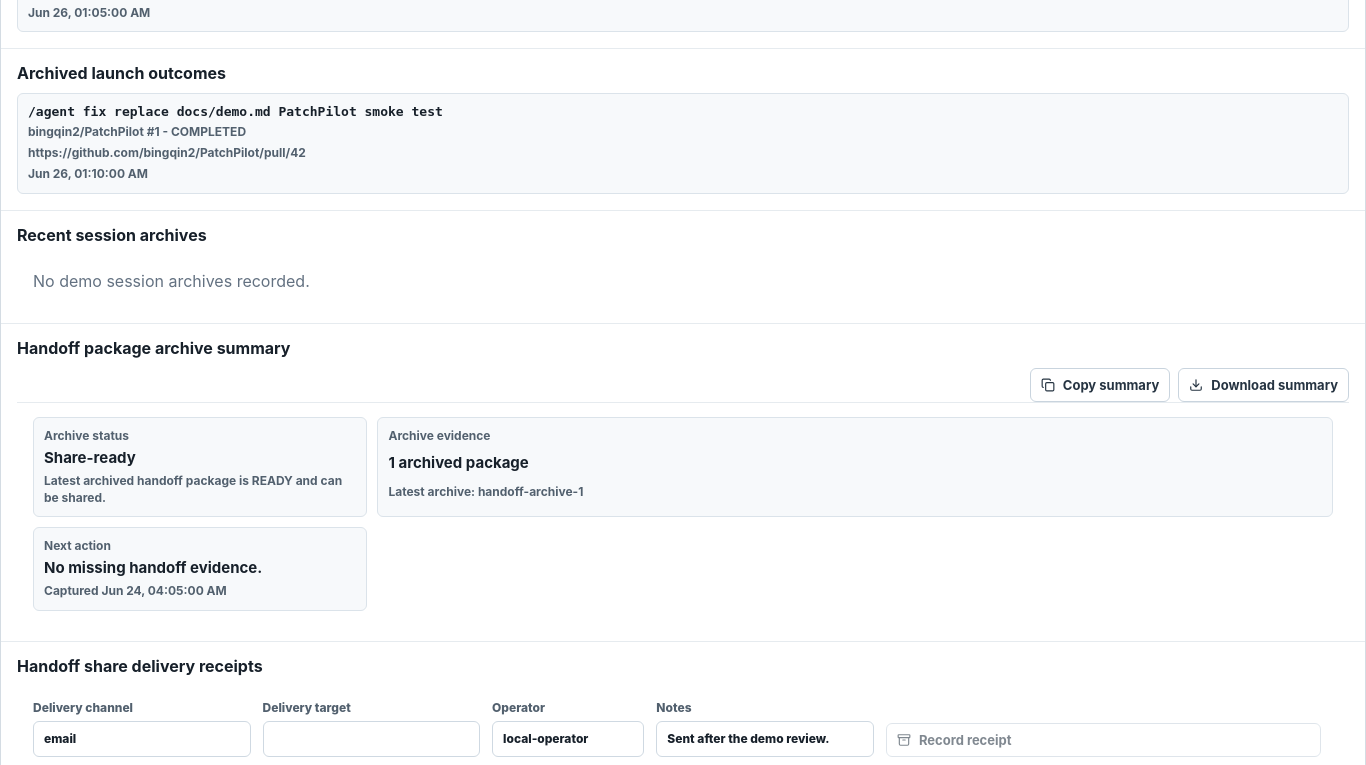
Test: downloads demo handoff package archive summary markdown
The image size is (1366, 765).
(page scrolled)
Click the button with aria-label "Download handoff archive summary" at (1264,385), box [1178,368,1349,402]
(page scrolled)
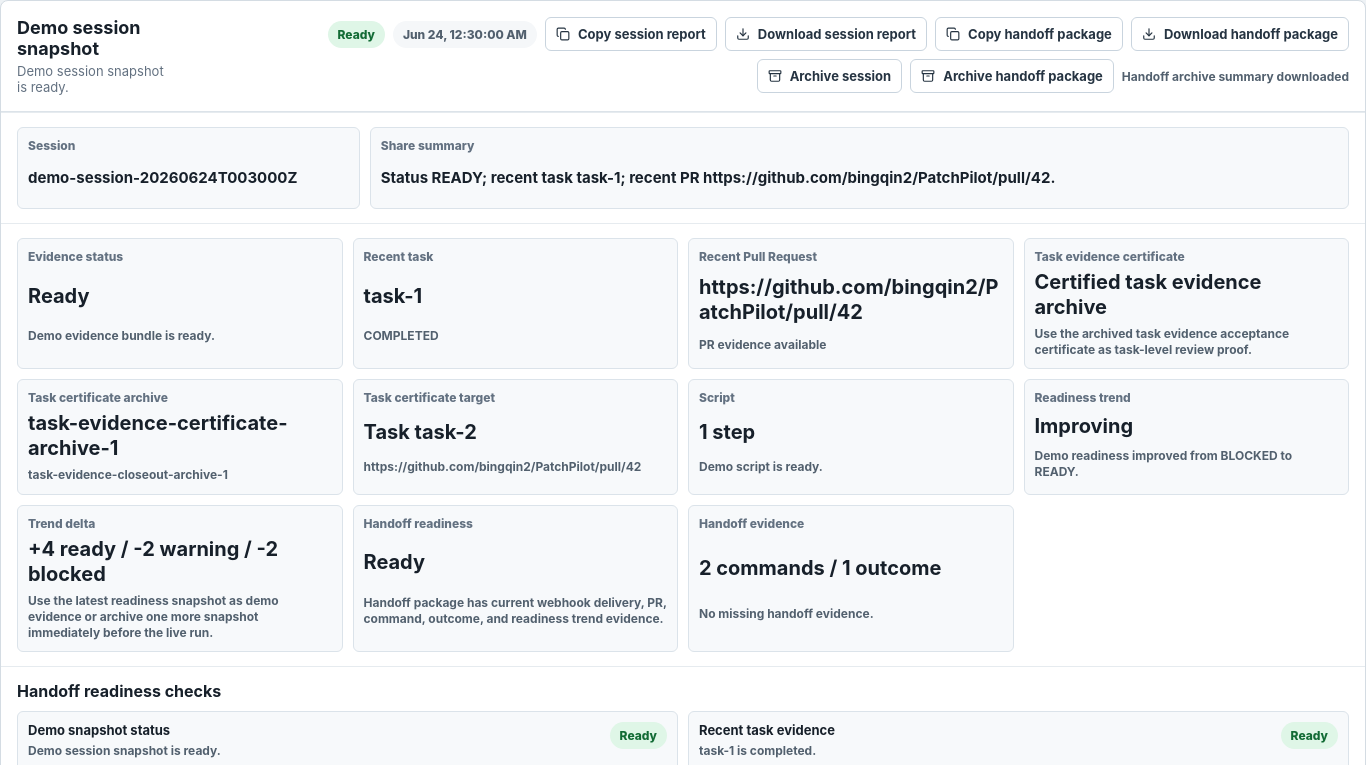
Expected: the text "Handoff archive summary downloaded" is shown, [1122,68,1349,84]
